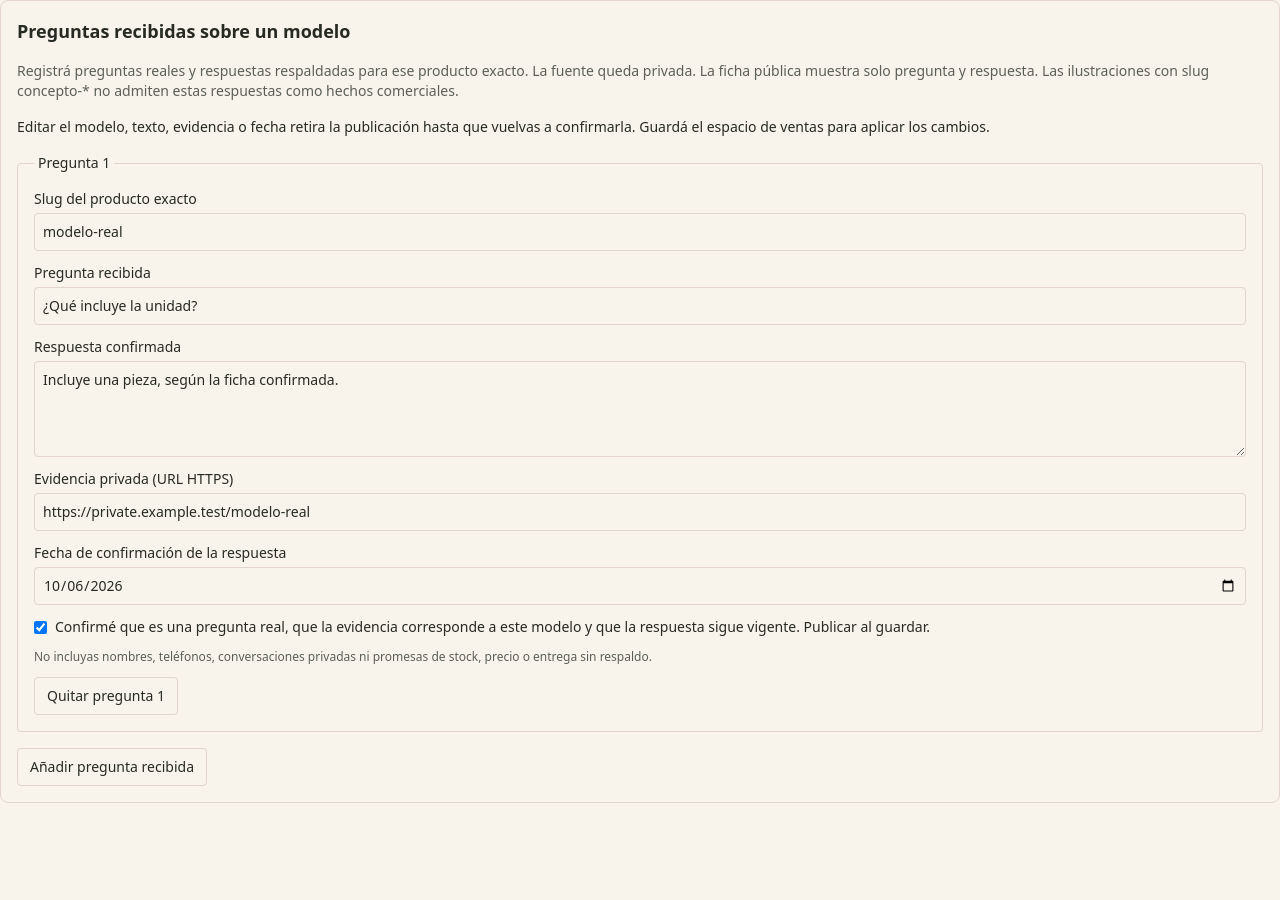
Test: prevents publishing model facts on a reserved concept
The width and height of the screenshot is (1280, 900).
Replace the text in the field labelled "Slug del producto exacto" with "concepto-prueba" at (640, 232), box [34,213,1246,251]
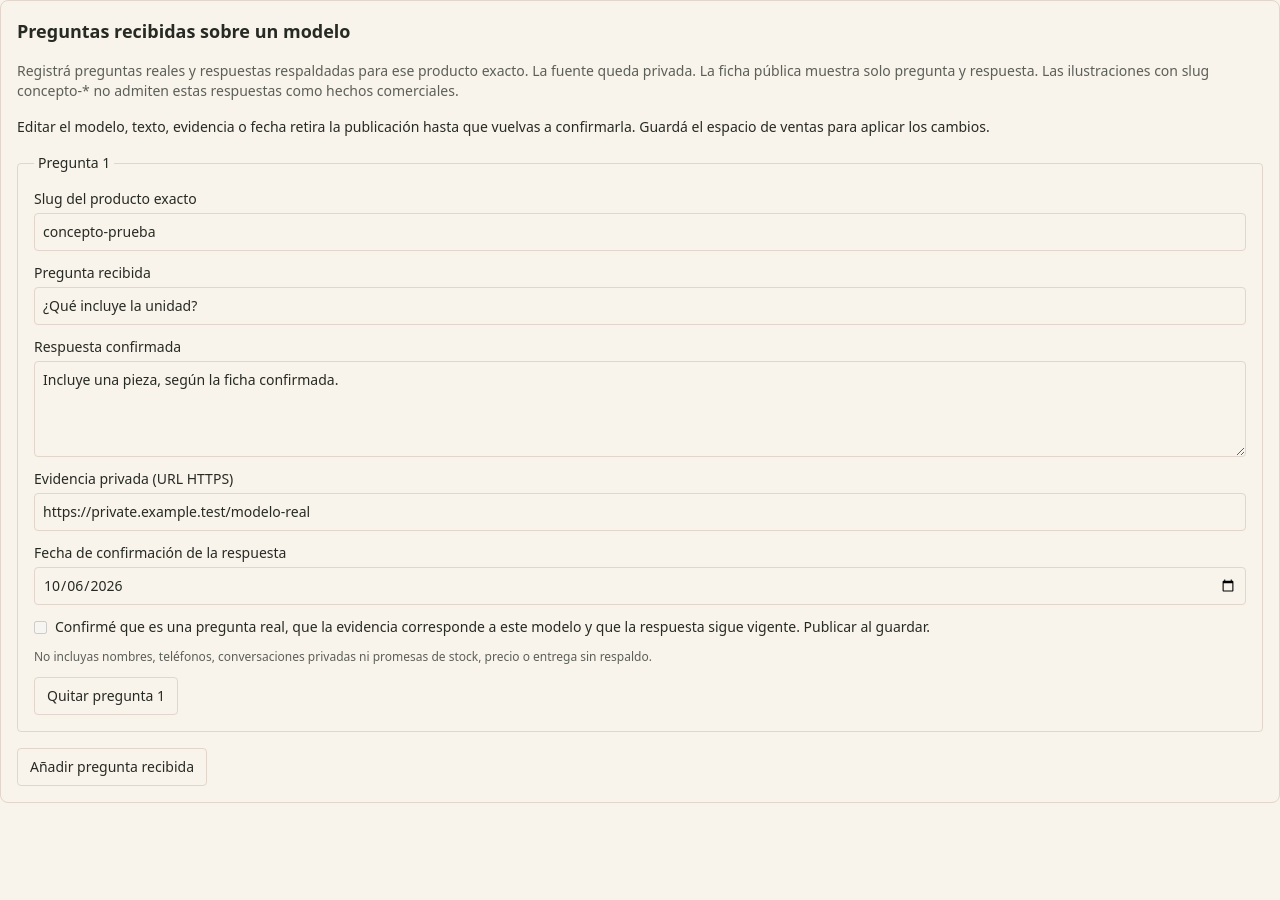
Expected: the checkbox is not checked, [34,621,47,634]
Expected: the checkbox is disabled, [34,621,47,634]
